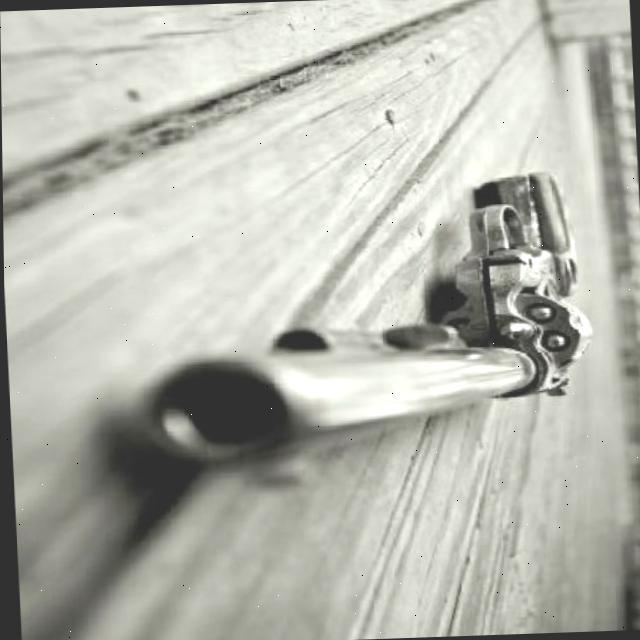gun: (123, 168, 599, 484)
